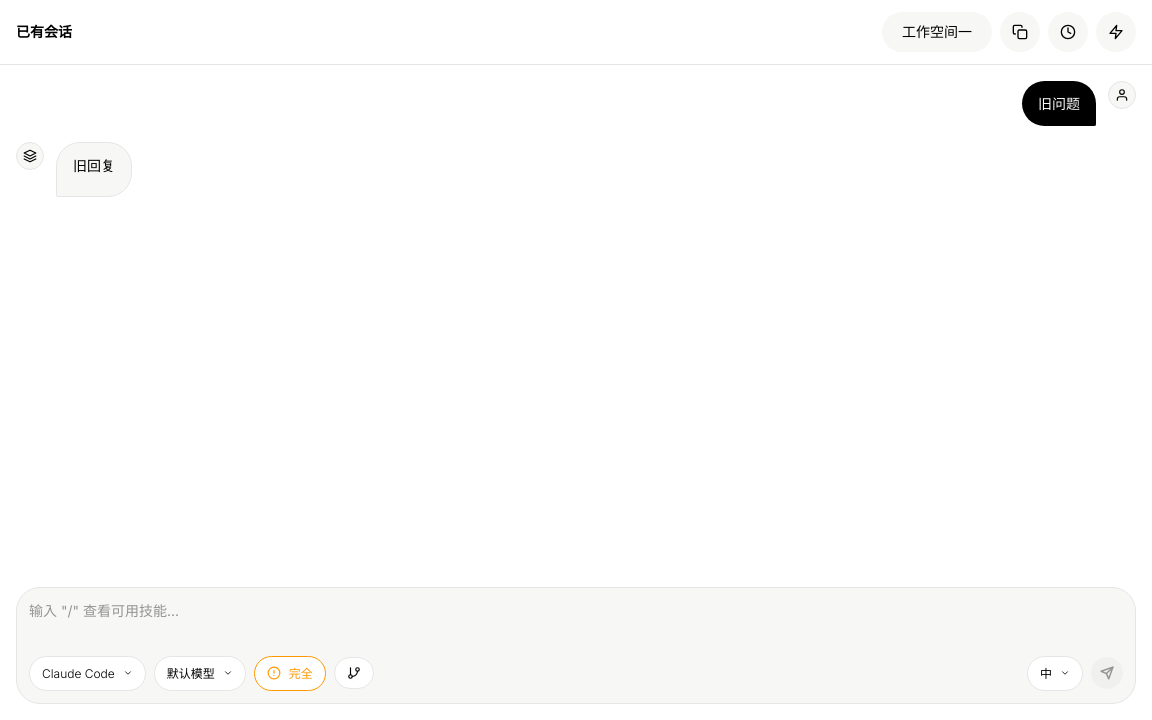
it: App › keeps a follow-up user message when stream meta repeats the current session id
The width and height of the screenshot is (1152, 720).
Check: the text "旧回复" is shown, box [73,155,115,176]
In the text box: (576, 624) [29,600,1123,648], type "开始修复"
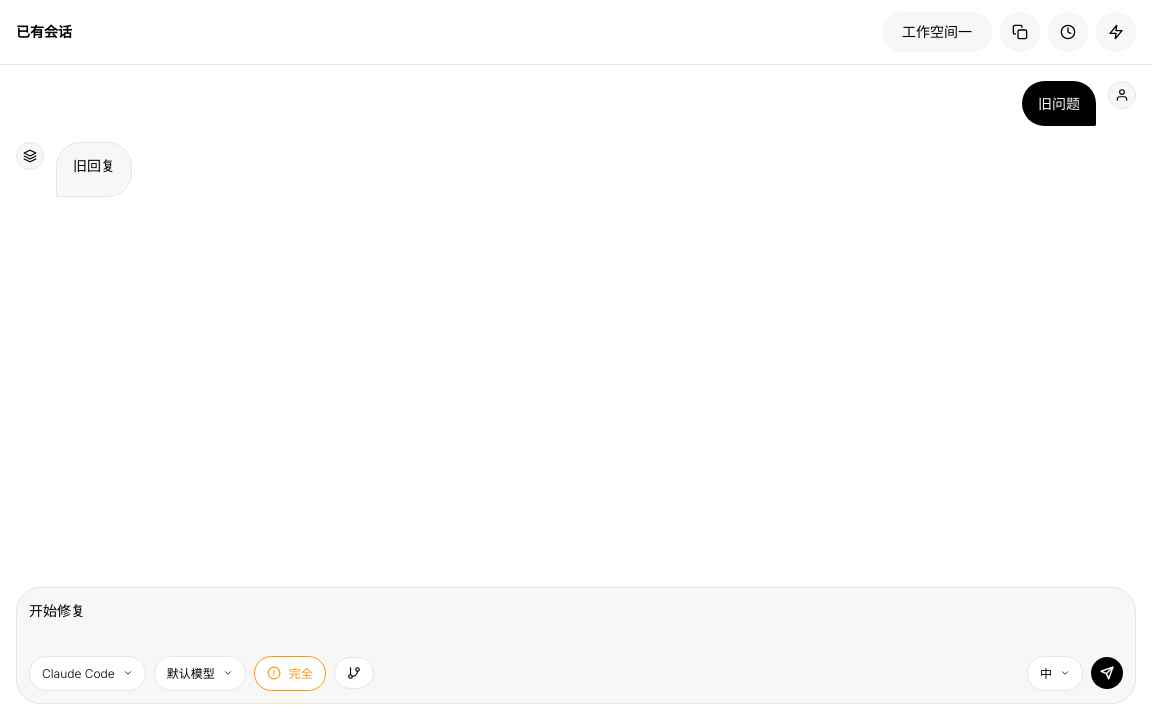
Click the button named "发送": (1107, 673) [1091,657,1123,689]
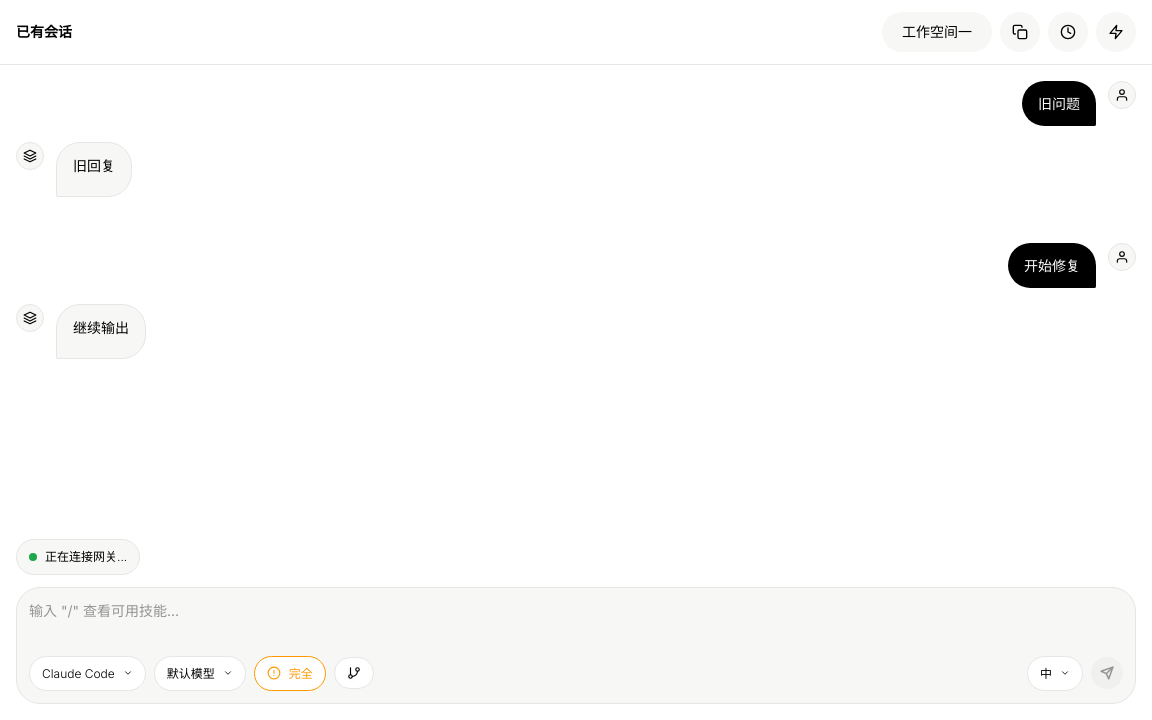
Check: the text "继续输出" is shown, box [73,317,129,338]
Check: the text "开始修复" is shown, box [1024,255,1080,276]
